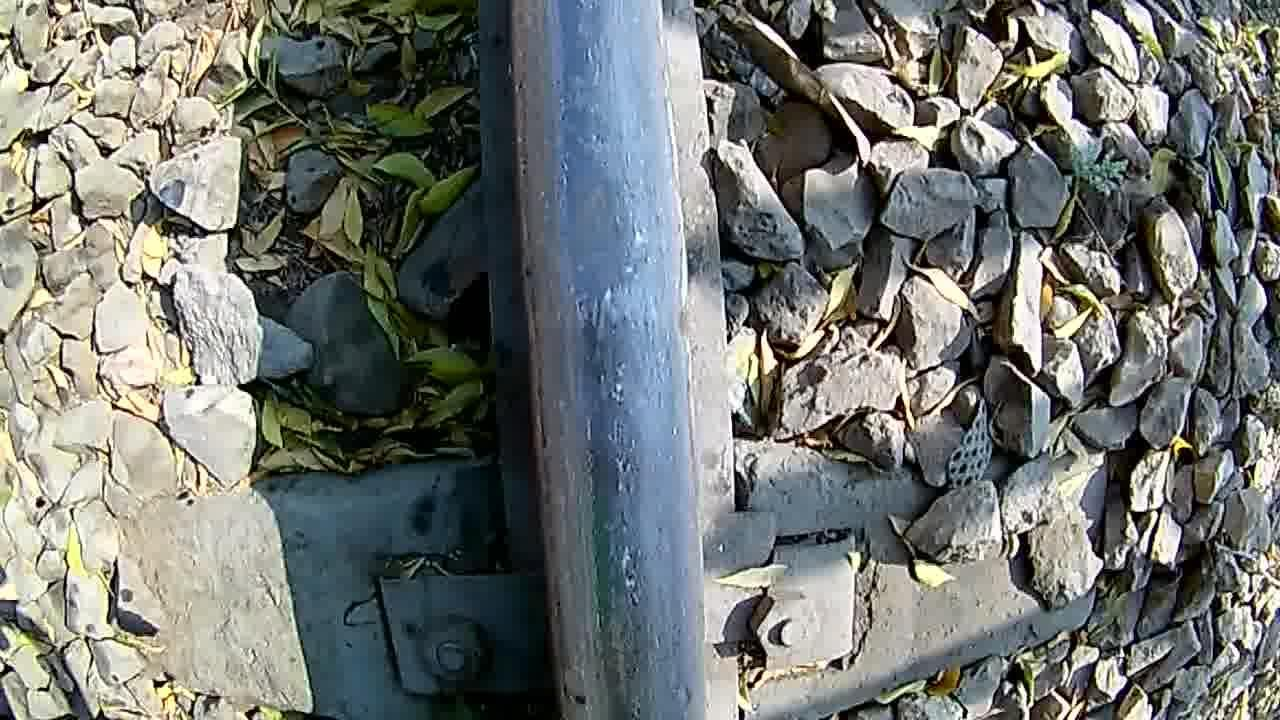crack: (517, 13, 688, 720)
